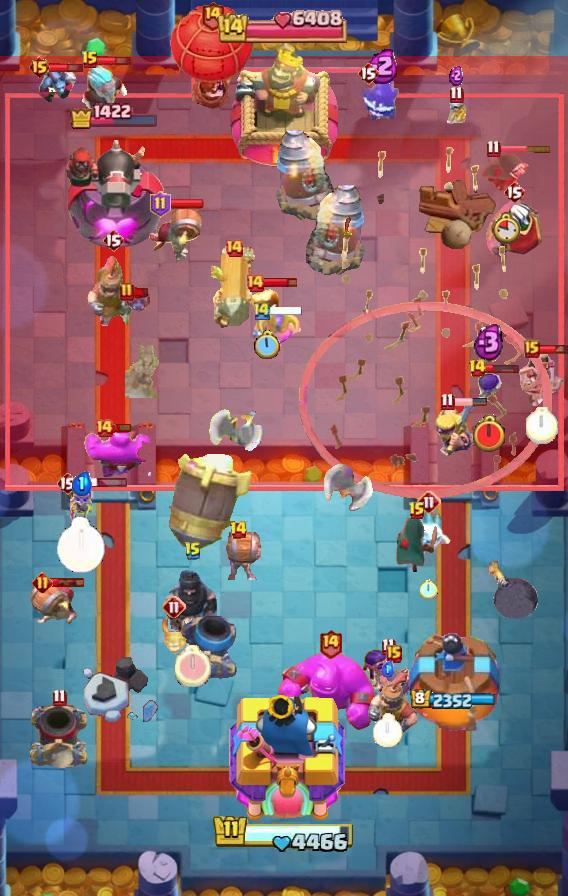axe: (208, 396, 264, 454), (323, 464, 377, 524)
bandit: (393, 518, 441, 576), (482, 153, 532, 201)
bar: (76, 477, 128, 488), (498, 144, 552, 153), (263, 276, 298, 289), (49, 61, 84, 74), (97, 54, 132, 67), (169, 198, 205, 210), (485, 362, 520, 374), (50, 577, 85, 588), (452, 397, 488, 407), (538, 343, 568, 355), (270, 306, 303, 316), (112, 422, 132, 433), (133, 287, 150, 298)
bar-level: (318, 628, 343, 659), (200, 0, 225, 31), (162, 595, 186, 619), (417, 490, 441, 514), (28, 55, 51, 79), (150, 191, 171, 217), (56, 471, 78, 495), (102, 228, 124, 252), (503, 180, 525, 204), (357, 61, 379, 85), (32, 572, 53, 593), (252, 300, 272, 321), (94, 418, 114, 438), (245, 273, 265, 293), (224, 238, 244, 258), (229, 520, 248, 540), (468, 358, 487, 378), (184, 541, 202, 561), (408, 501, 426, 521), (81, 50, 99, 70), (119, 282, 135, 302), (386, 645, 402, 663), (524, 340, 540, 358), (52, 688, 67, 707), (381, 637, 396, 656), (440, 392, 455, 411), (486, 139, 501, 158), (449, 85, 464, 104)
barbarian-evolution: (434, 405, 481, 458)
bat: (123, 292, 153, 314)
bomb: (488, 559, 539, 621)
bomber-evolution: (360, 646, 416, 702)
cannoneer-tower: (61, 132, 168, 256)
clock: (56, 516, 106, 574), (175, 645, 211, 687), (471, 414, 507, 454), (526, 407, 558, 444), (373, 713, 403, 747), (493, 212, 521, 244), (253, 330, 280, 361), (420, 579, 438, 599)
dirt: (125, 345, 163, 398)
electro-spirit: (361, 77, 405, 125)
elite-barbarian: (253, 307, 302, 350)
elixir: (473, 322, 505, 362), (366, 47, 400, 84), (71, 471, 92, 496), (449, 65, 463, 86), (382, 661, 394, 677)
elixir-golem-mid: (84, 427, 152, 479)
fire-spirit: (251, 288, 281, 320)
ice-spirit: (407, 512, 452, 554)
ice-wizard: (74, 63, 136, 129)
king-tower: (223, 689, 345, 826), (230, 43, 338, 181)
king-tower-bar: (212, 813, 356, 855), (217, 9, 351, 43)
lava-pup: (159, 616, 189, 654)
minion: (33, 63, 79, 103)
mortar: (27, 703, 91, 769), (177, 615, 237, 679)
princess: (517, 348, 567, 406)
queen-tower: (407, 633, 499, 731)
royal-recruit: (365, 664, 423, 746), (87, 256, 139, 326)
skeleton: (442, 96, 470, 126)
skeleton-evolution: (65, 484, 97, 526), (474, 370, 504, 410)
tower-bar: (69, 102, 160, 130), (410, 689, 496, 711)
wall-breaker: (147, 204, 203, 264), (28, 578, 82, 630), (214, 532, 262, 580)
